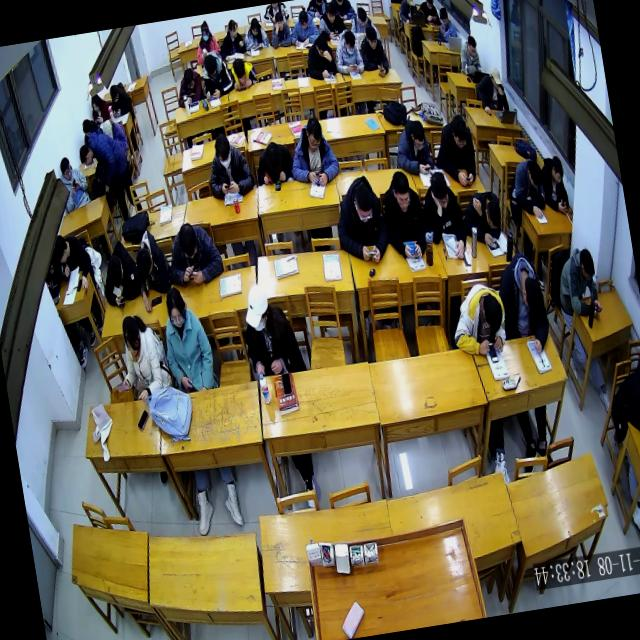bow: (162, 215, 228, 292), (130, 225, 178, 314), (96, 236, 144, 312), (508, 152, 551, 224), (252, 138, 298, 189), (227, 54, 260, 93)
down: (240, 283, 274, 336), (350, 178, 378, 226), (478, 292, 507, 338), (518, 274, 546, 320), (118, 314, 146, 360), (163, 285, 190, 332), (389, 169, 414, 217), (428, 168, 452, 212), (176, 220, 201, 262), (448, 113, 472, 153), (211, 132, 235, 172), (262, 141, 286, 178), (303, 116, 326, 154), (482, 197, 504, 235), (577, 247, 599, 285), (134, 246, 156, 283), (105, 254, 126, 290), (51, 234, 71, 269), (526, 160, 546, 192), (549, 154, 566, 188), (342, 28, 359, 58), (202, 52, 220, 80), (77, 143, 95, 170), (314, 34, 331, 62), (364, 24, 381, 52), (231, 56, 248, 83), (182, 66, 198, 93), (488, 66, 504, 92), (484, 230, 502, 253), (59, 156, 74, 183), (324, 1, 339, 27), (465, 34, 480, 60), (297, 9, 311, 33), (248, 16, 262, 39), (356, 6, 369, 30), (80, 118, 94, 140), (199, 21, 212, 44), (89, 93, 102, 115), (108, 84, 121, 105), (438, 6, 450, 28), (424, 0, 435, 12)
lookup: (274, 11, 286, 34), (403, 0, 415, 8)
sit: (235, 276, 307, 379), (156, 282, 219, 396), (493, 248, 556, 360), (111, 308, 176, 411), (328, 171, 394, 271), (75, 126, 137, 222), (375, 166, 431, 266), (446, 278, 512, 362), (417, 167, 471, 266), (282, 112, 342, 193), (552, 243, 606, 322), (428, 112, 481, 192), (201, 130, 257, 202), (459, 186, 508, 253), (50, 230, 96, 298), (390, 116, 438, 180), (603, 361, 640, 444), (536, 152, 572, 217), (56, 154, 92, 215), (198, 47, 236, 103), (356, 22, 392, 81), (474, 64, 512, 118), (302, 31, 340, 84), (330, 26, 366, 80), (285, 5, 321, 50), (191, 18, 223, 66), (173, 65, 206, 110), (216, 17, 248, 63), (315, 0, 348, 44), (455, 34, 484, 79), (266, 8, 294, 51), (240, 14, 270, 54), (432, 4, 460, 44), (107, 80, 135, 119), (348, 5, 378, 40), (88, 89, 112, 126), (415, 0, 441, 26), (394, 0, 420, 26)
